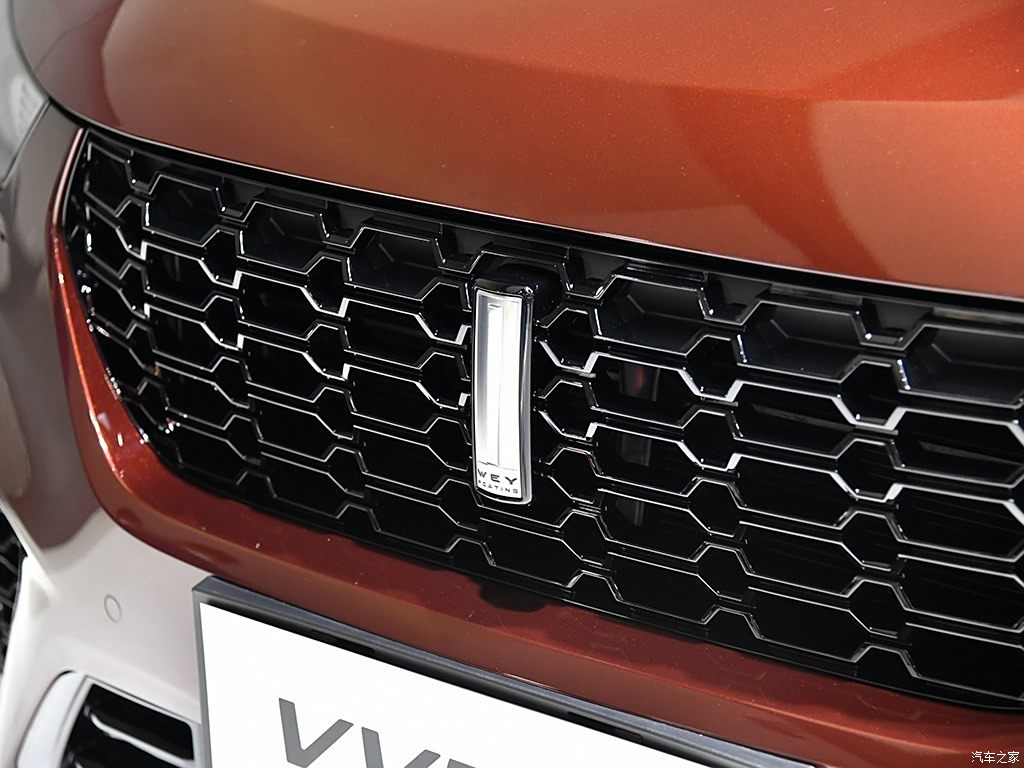WEY: (476, 291, 521, 498)
